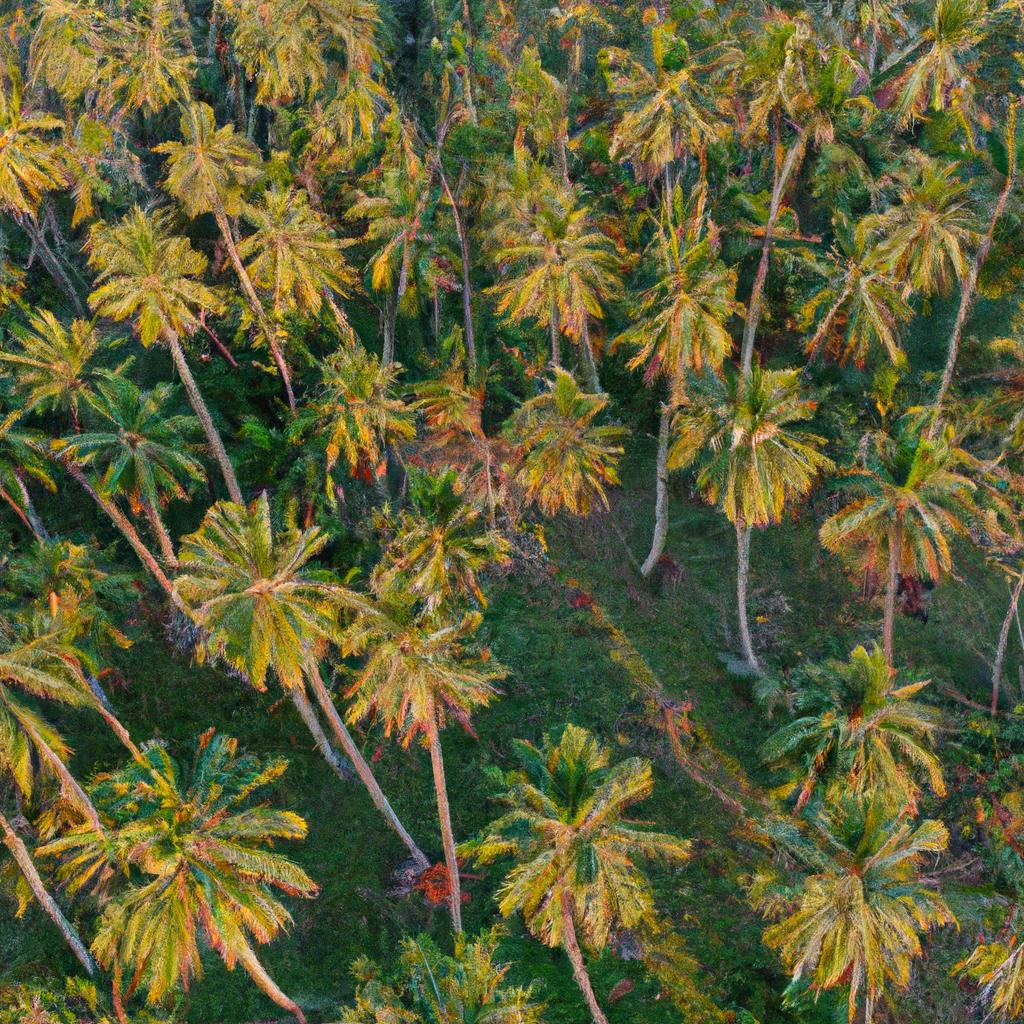coconut_tree: (46, 732, 334, 993), (475, 720, 717, 964), (734, 783, 964, 996), (173, 490, 364, 696), (743, 624, 964, 801), (800, 394, 996, 589), (677, 358, 854, 547), (490, 362, 646, 546), (50, 370, 224, 502), (489, 188, 631, 339), (70, 210, 218, 337)
